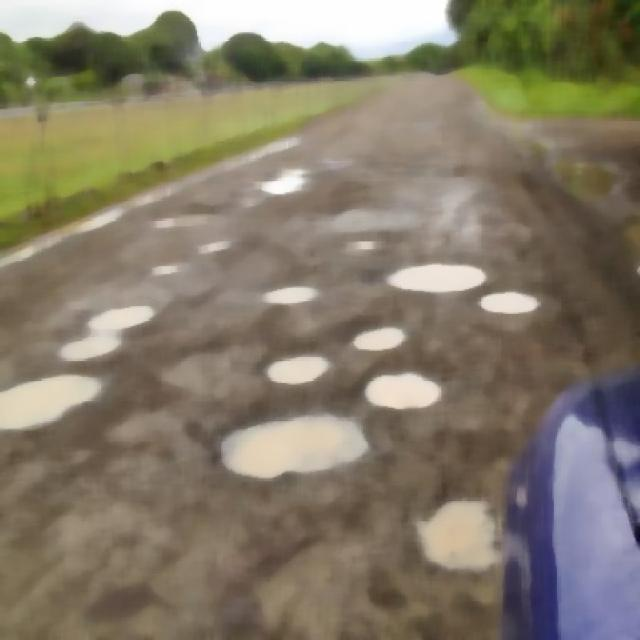Pothole: (346, 222, 546, 328), (214, 398, 374, 485), (412, 474, 505, 572), (62, 273, 143, 382), (0, 361, 92, 456), (150, 202, 227, 256), (272, 340, 342, 398), (365, 363, 443, 414), (356, 332, 421, 357)
